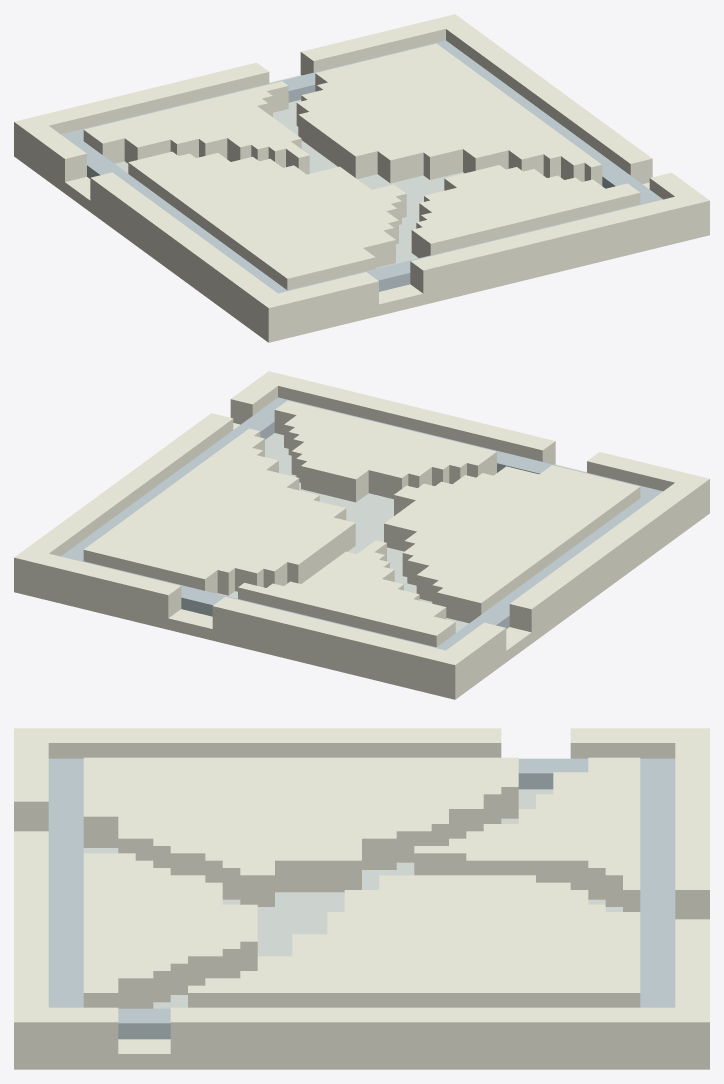
The model's file is env_floor_basic_damaged.obj.
3 views of the same model, one above another, from view 1: azimuth 30°, elevation 25°; view 2: azimuth 150°, elevation 25°; view 3: azimuth 270°, elevation 25° (orthographic). The views are drawn at different scales.
Bounding box in the file's own units: 40 × 3 × 40.
1 material, 1 textured.
